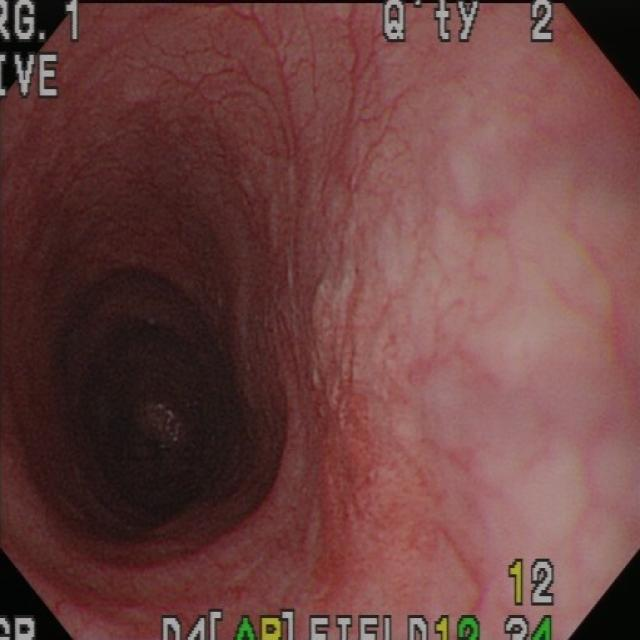A: (285, 230, 397, 604)
E: (85, 319, 241, 514)
S: (160, 608, 483, 640), (383, 3, 558, 45), (3, 3, 83, 45), (3, 50, 63, 101), (507, 558, 556, 608), (506, 614, 556, 640), (2, 614, 39, 640)
